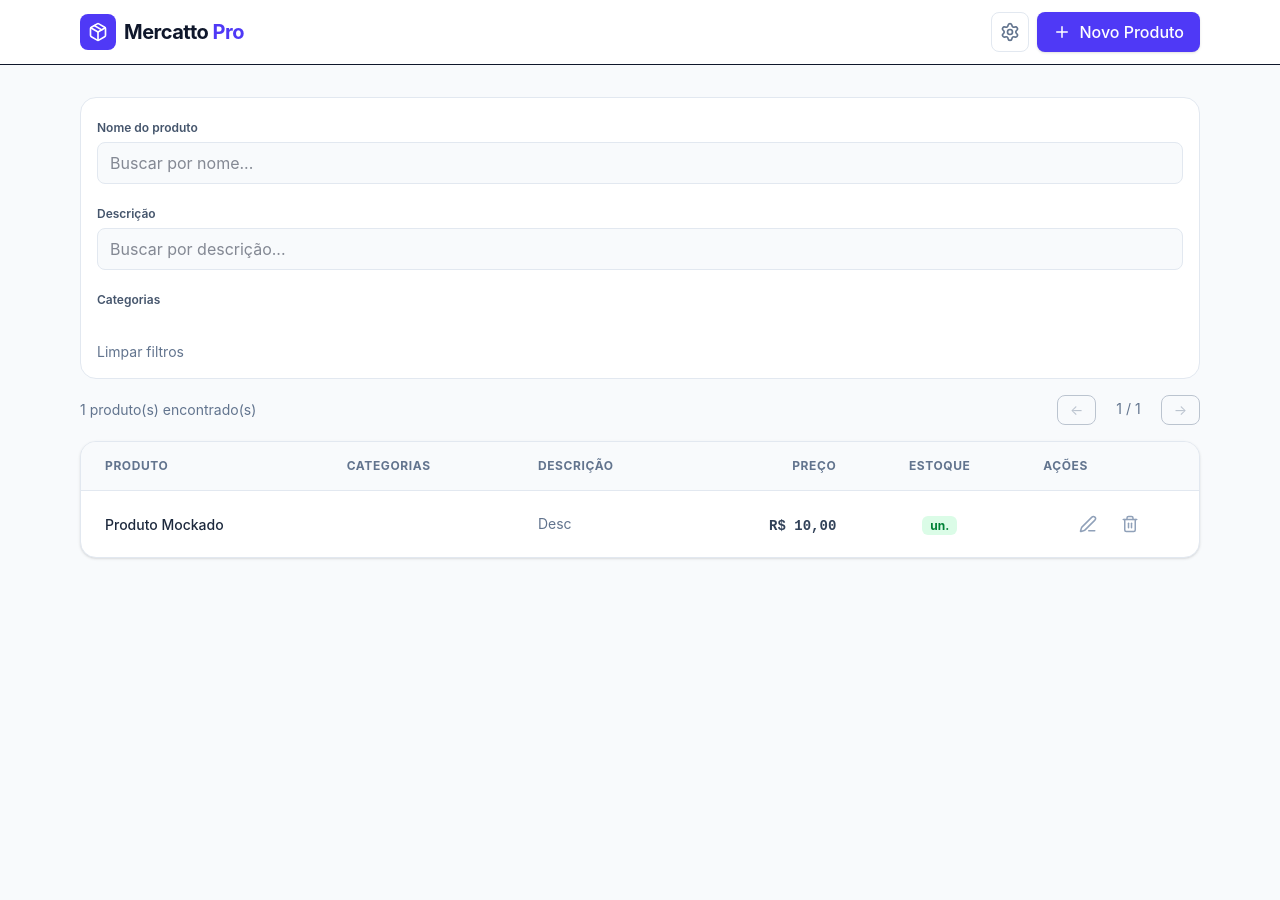
Test: Página Principal (Page) › deve abrir o ProductModal através do Header
This screenshot has width=1280, height=900.
Click the button "Novo Produto": (1119, 32) [1037,12,1200,52]
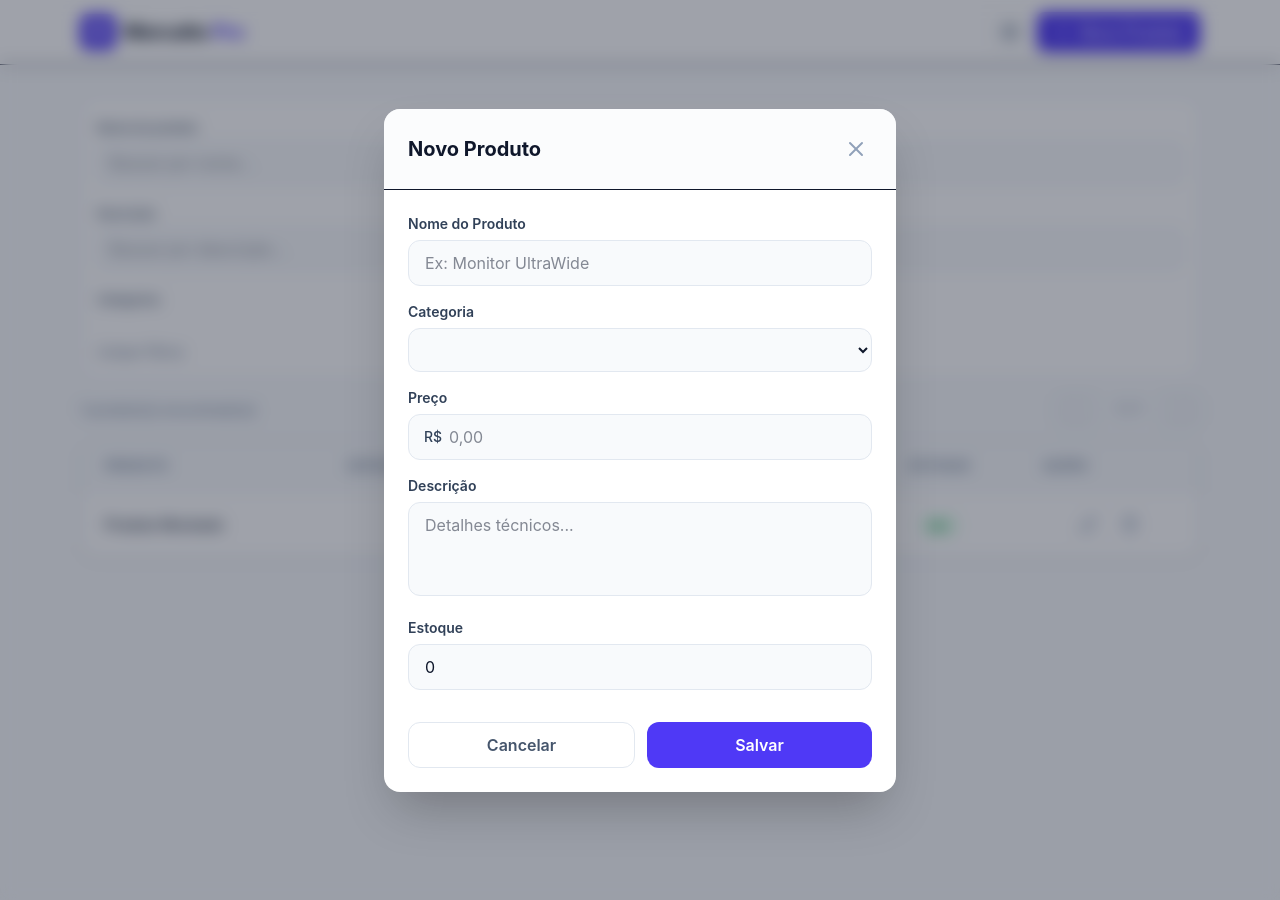
Check: the heading "Novo Produto" is shown, box [408,134,541,162]
